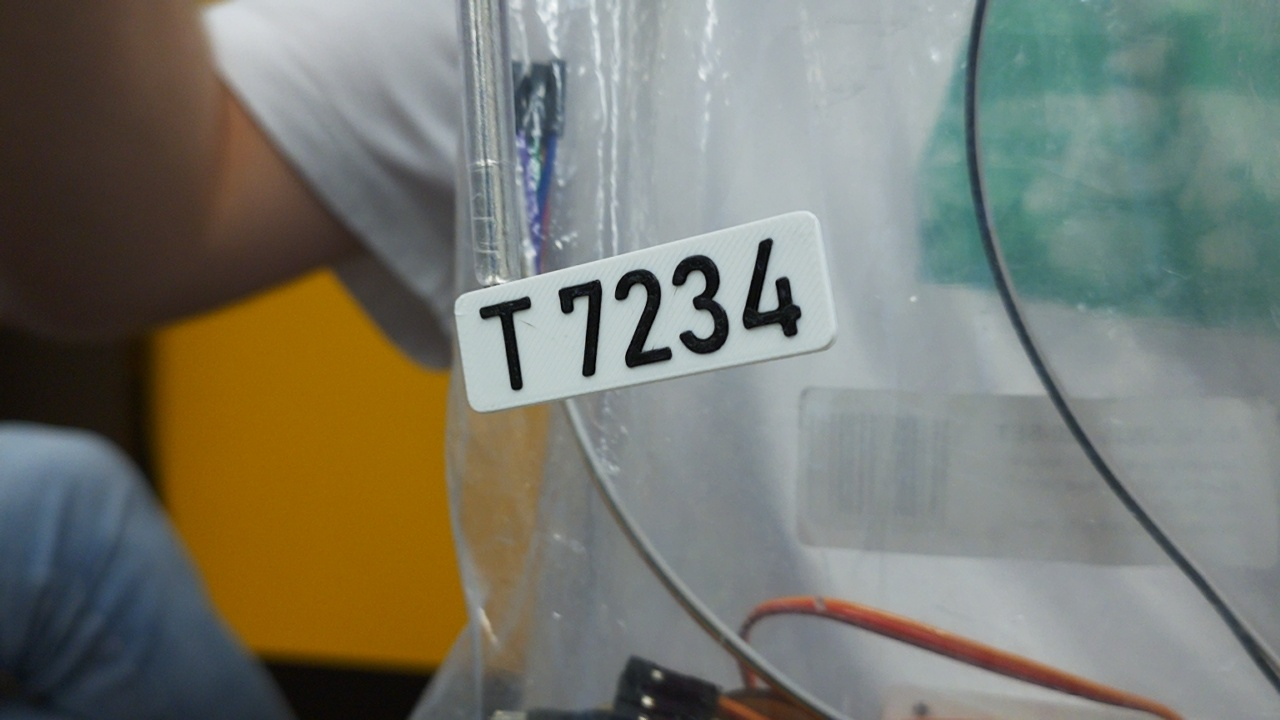license_plate: (449, 206, 843, 414)
